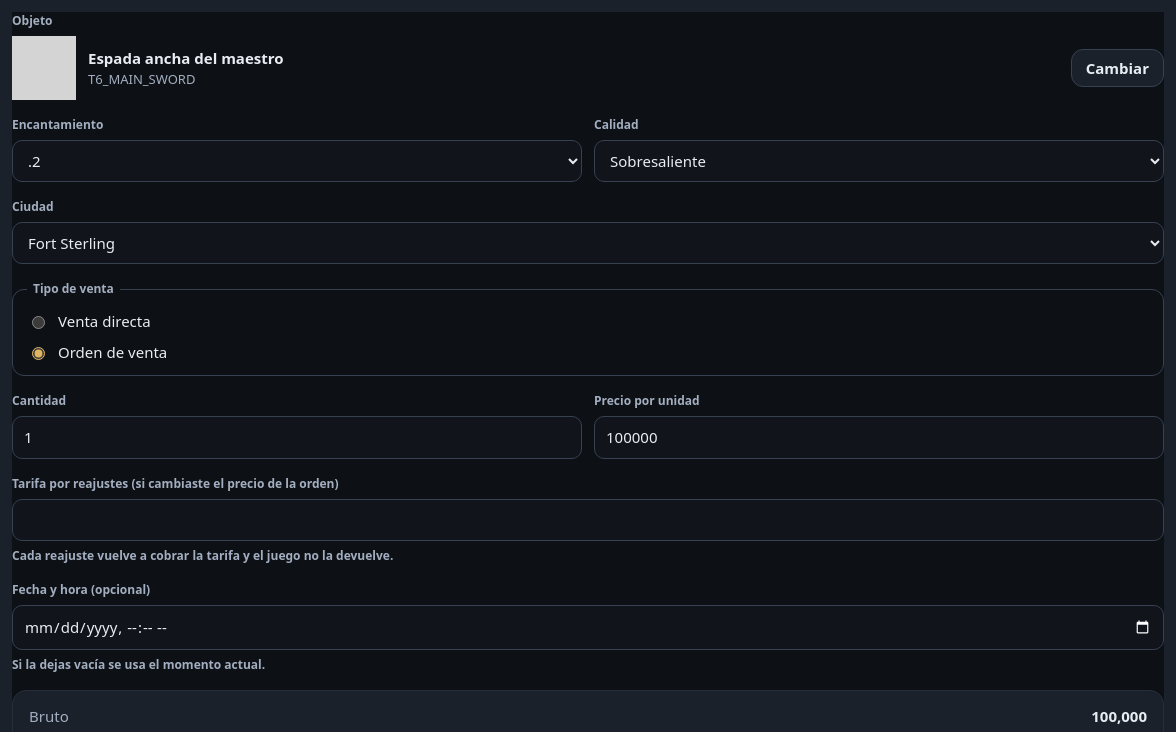
Scenario: FormularioVenta › la tarifa por reajustes solo existe en las órdenes y suma al desglose
In the number field labelled "reajustes": (588, 520) x1=12 y1=498 x2=1164 y2=541, type "1000"
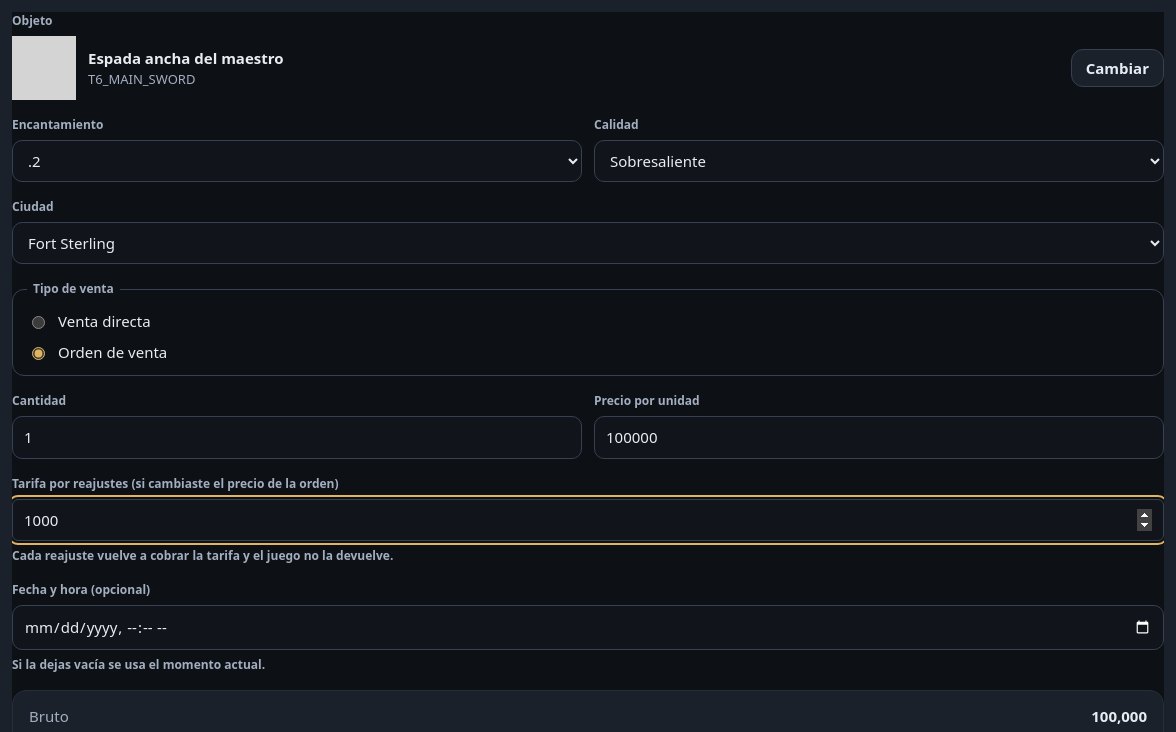
Click the radio button labelled "Venta directa": (38, 323) x1=32 y1=316 x2=45 y2=329
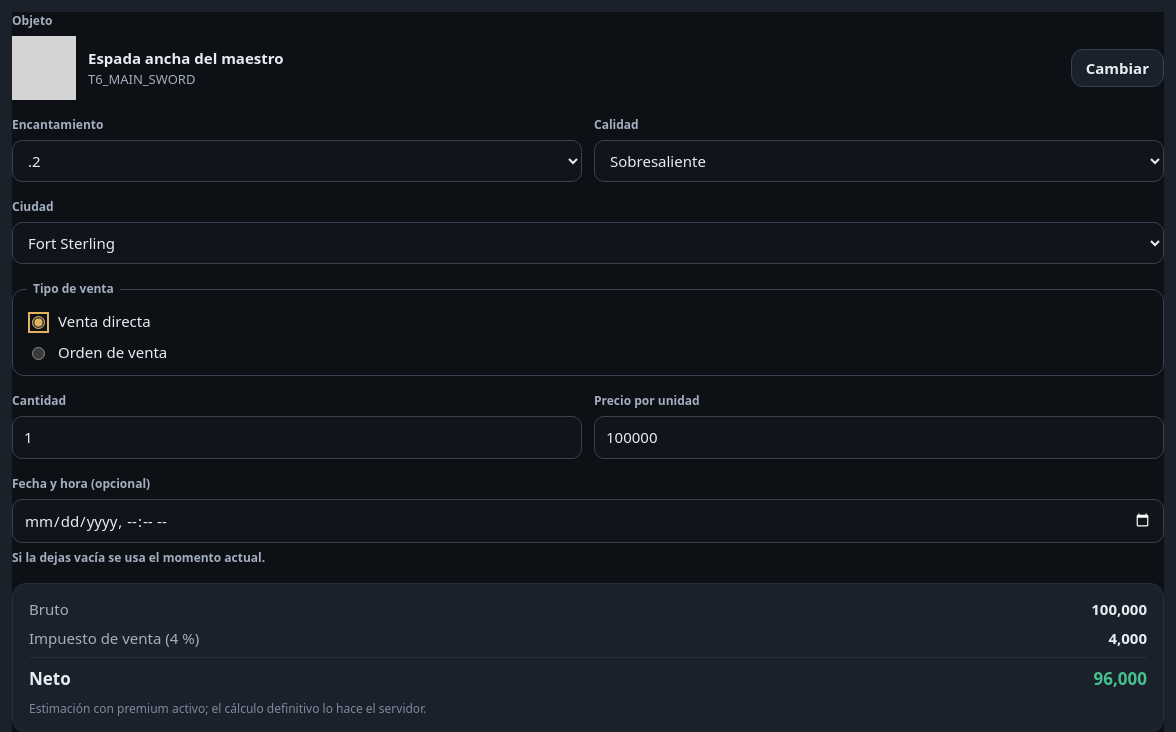
expect the text labelled "reajustes" is gone: met
